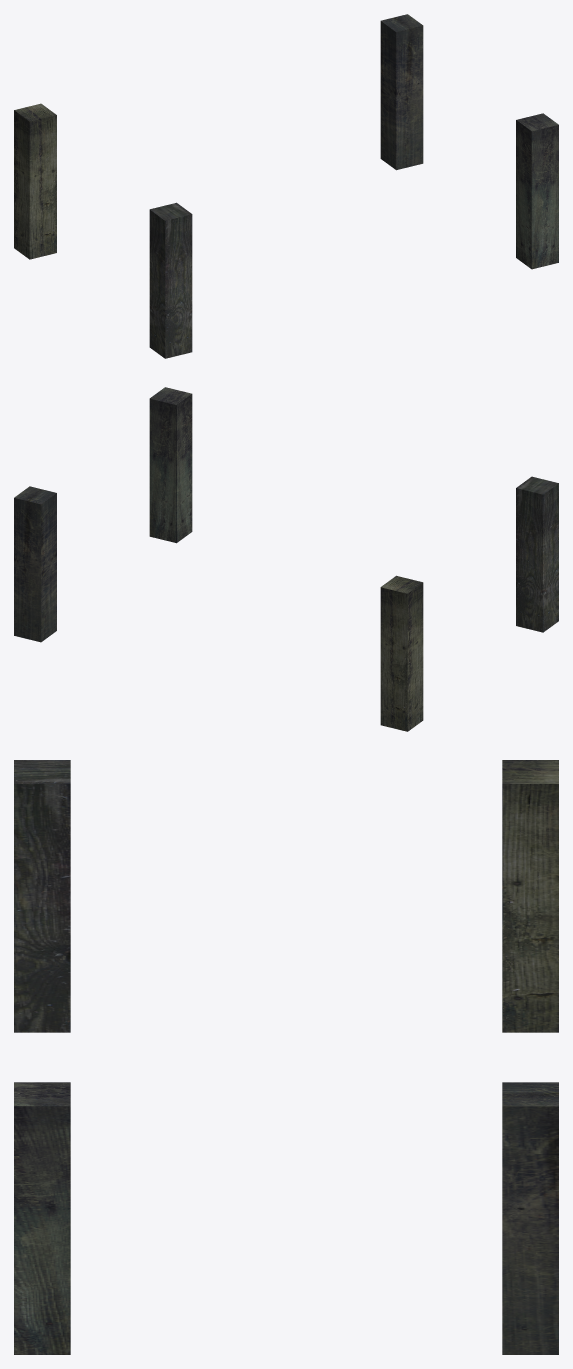
Rendered from OldWoodenPillars 1-2x3m.fbx.
The picture shows the model from 3 angles, top to bottom: view 1: azimuth 30°, elevation 25°; view 2: azimuth 150°, elevation 25°; view 3: azimuth 270°, elevation 25°; orthographic projection. The views are drawn at different scales.
Parts seen in each view (by area): view 1: OldWoodenPillars_1-2x3m; view 2: OldWoodenPillars_1-2x3m; view 3: OldWoodenPillars_1-2x3m.
Boxes of the visible parts, bbox=[...] form: OldWoodenPillars_1-2x3m: bbox=[14, 14, 558, 358]; OldWoodenPillars_1-2x3m: bbox=[14, 387, 558, 731]; OldWoodenPillars_1-2x3m: bbox=[14, 760, 558, 1354].
Bounding box in the file's own units: 2.99 × 1 × 1.99.
